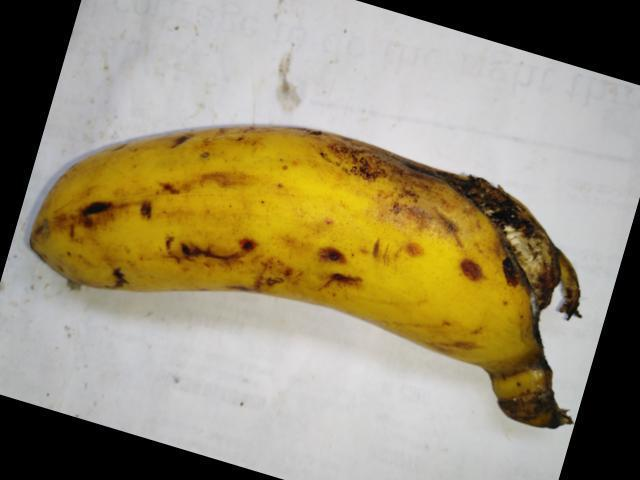ripe: (26, 108, 472, 374)
rotten: (388, 131, 600, 346)
